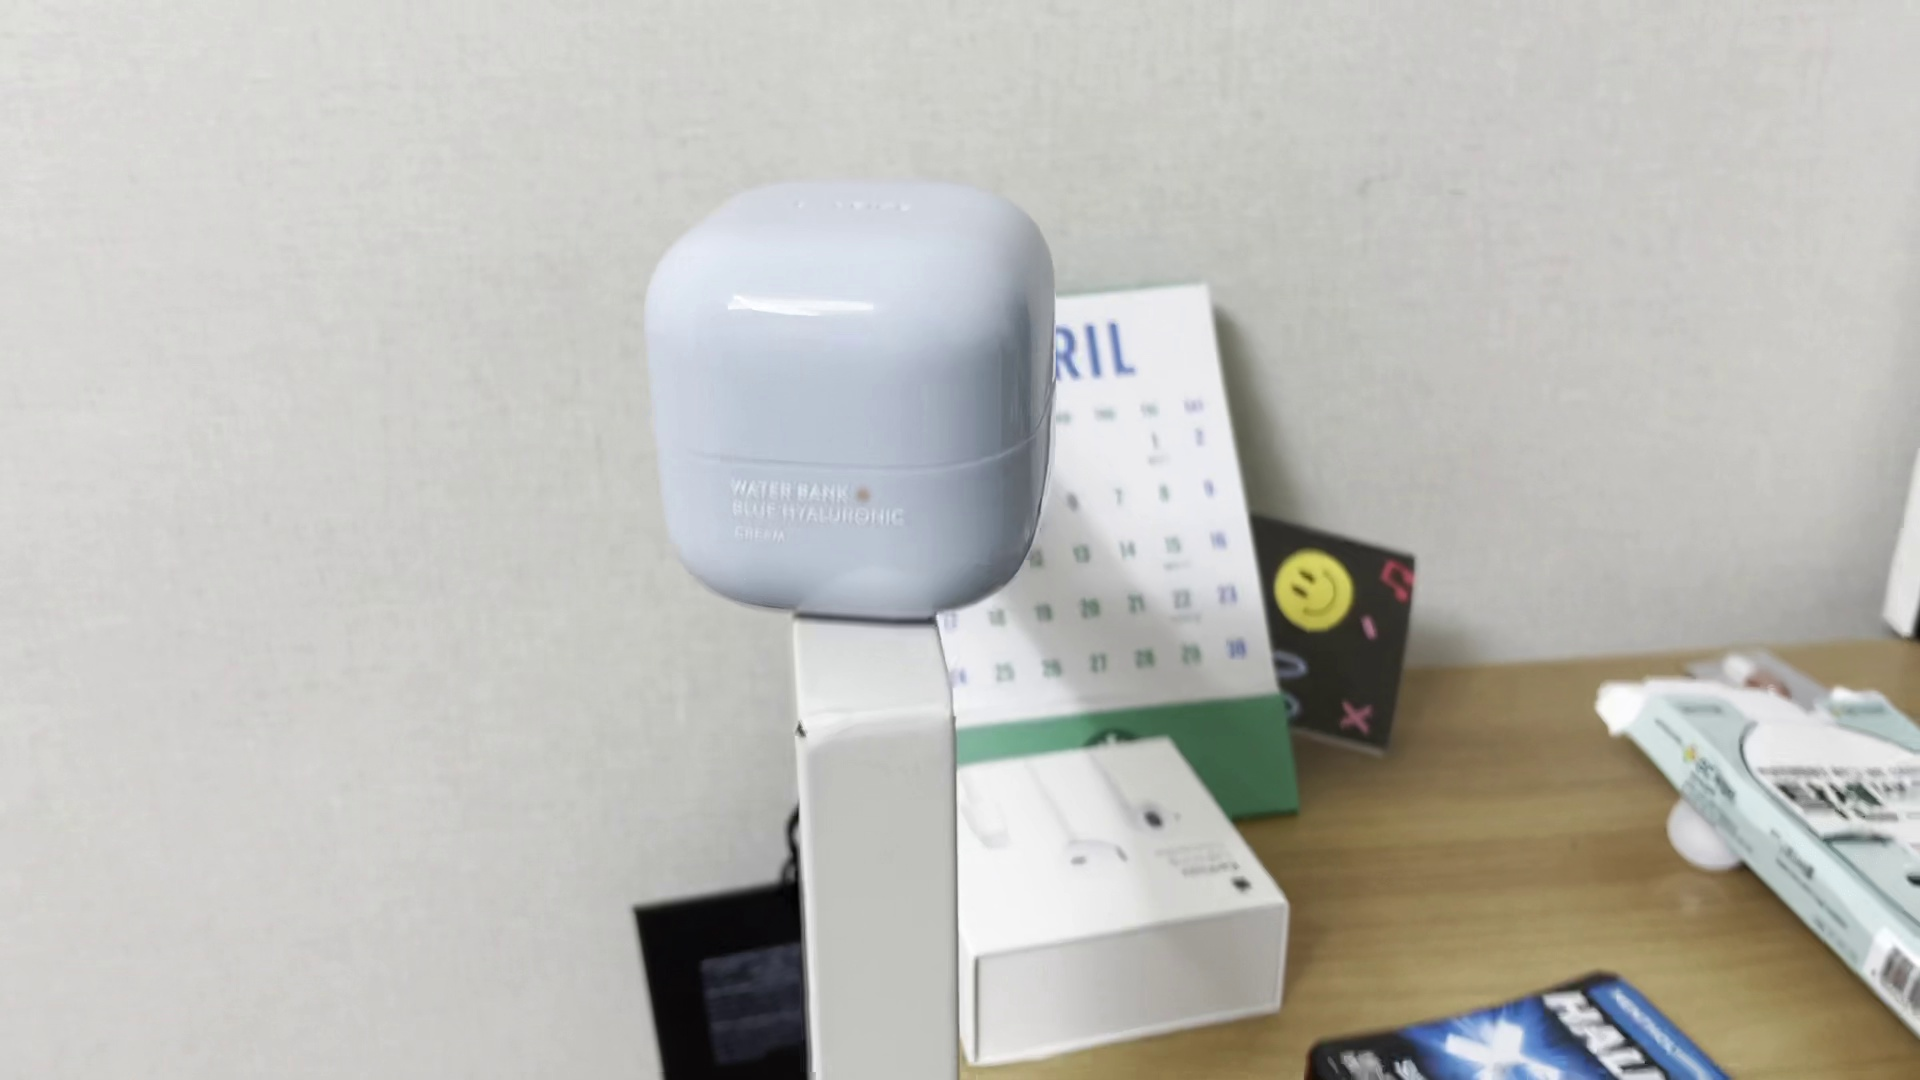cream: (640, 175, 1058, 618)
